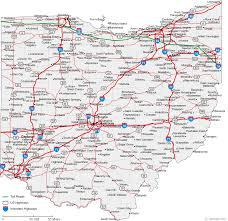ohio: (1, 15, 227, 218)
